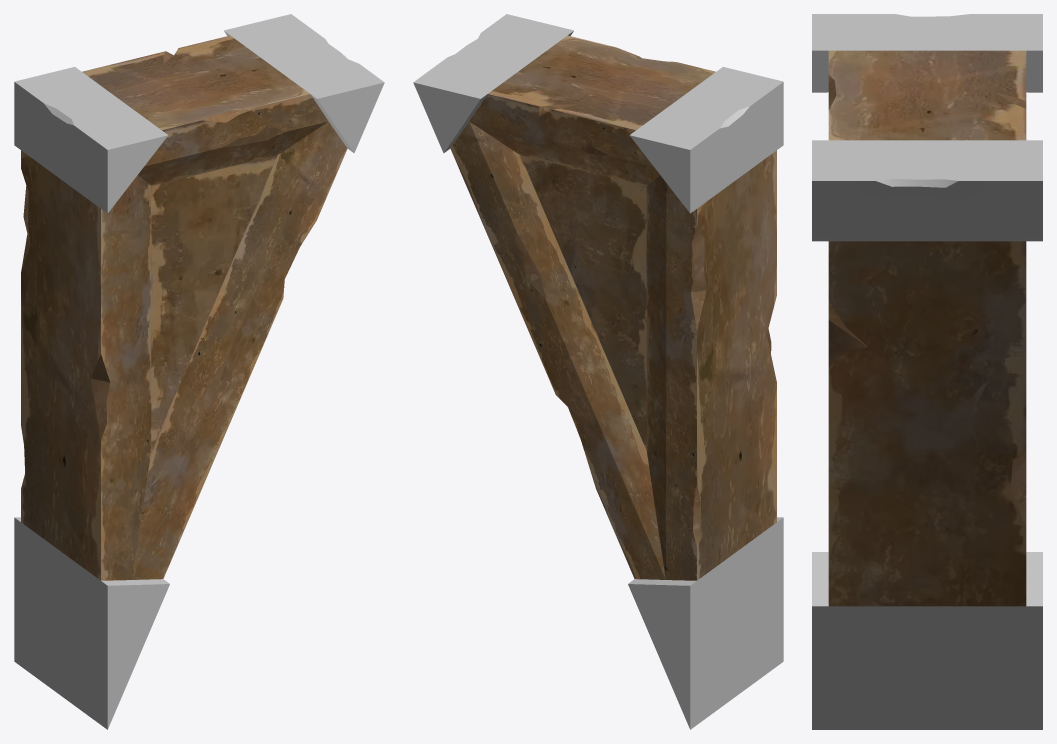
The picture shows the model from 3 angles, left to right: view 1: azimuth 30°, elevation 25°; view 2: azimuth 150°, elevation 25°; view 3: azimuth 270°, elevation 25°; orthographic projection. The views are drawn at different scales.
Visible parts, largest first — view 1: SM_Vault_Corner_Frame_01_LOD0; view 2: SM_Vault_Corner_Frame_01_LOD0; view 3: SM_Vault_Corner_Frame_01_LOD0.
Part boxes in pixels (x1,y1,x2,y2): SM_Vault_Corner_Frame_01_LOD0: [14, 14, 384, 729]; SM_Vault_Corner_Frame_01_LOD0: [413, 14, 783, 729]; SM_Vault_Corner_Frame_01_LOD0: [812, 14, 1042, 729].
Bounding box in the file's own units: 1 × 2 × 0.5846.
